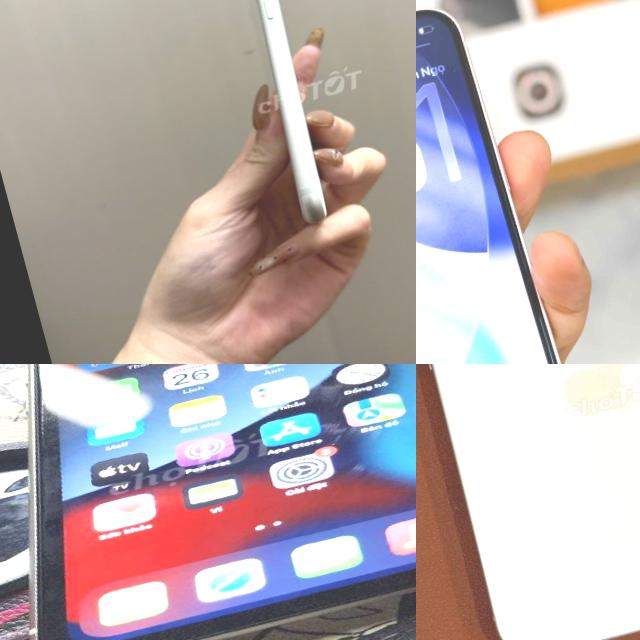gen_11: (0, 364, 416, 640)
gen_12_13: (416, 0, 602, 364)
gen_15: (416, 364, 640, 640)
gen_7_8: (228, 0, 349, 233)
